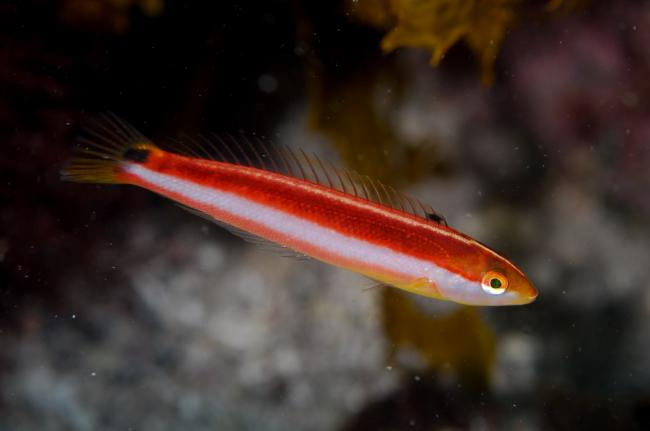fish: (59, 107, 540, 308)
